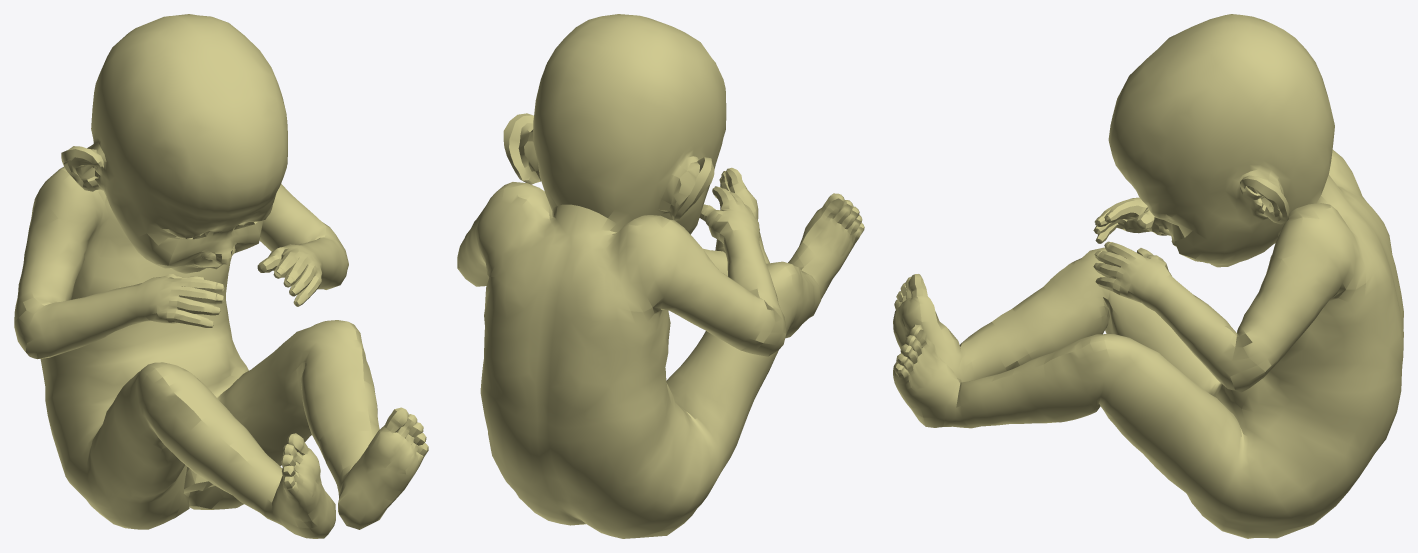
3 renders of one model, left to right at view 1: azimuth 30°, elevation 25°; view 2: azimuth 150°, elevation 25°; view 3: azimuth 270°, elevation 25°, orthographic.
Parts seen in each view (by area): view 1: Mesh (2); view 2: Mesh (2); view 3: Mesh (2).
Part boxes in pixels (x1,y1,x2,y2): Mesh (2): [14, 14, 428, 538]; Mesh (2): [457, 14, 864, 538]; Mesh (2): [893, 14, 1403, 538].
Size of the model in its own units: 67.06 by 98.61 by 92.61.
